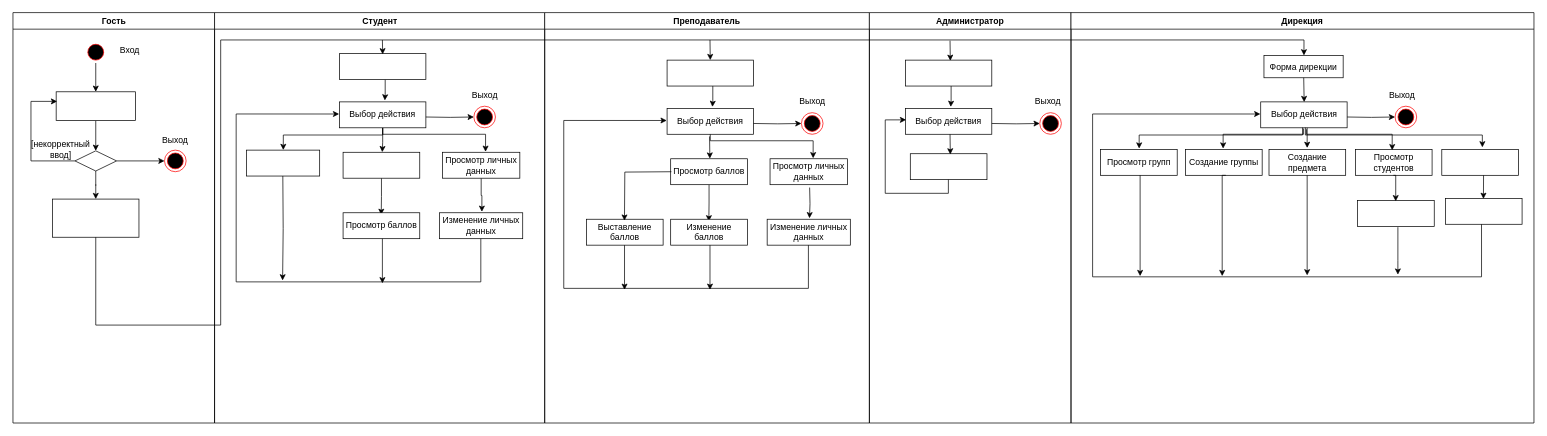
Image size: 1547x436. Some labels were removed from this diagram. Here are the shapes that lost their labels. From the top down, the centre of each, then its label:
At point (382, 66): "Форма студента".
At point (709, 72): "Форма преподавателя".
At point (948, 72): "Форма администратора".
At point (95, 106): "Авторизация".
At point (283, 162): "Просмотр списка групп".
At point (381, 165): "Просмотр списка аттестаций".
At point (948, 166): "Создание пользователя".
At point (1479, 162): "Просмотр преподавателей".
At point (95, 217): "Проверка пользовательских прав".
At point (1395, 213): "Просмотр данных студентов".
At point (1483, 211): "Просмотр данных преподавателей".
